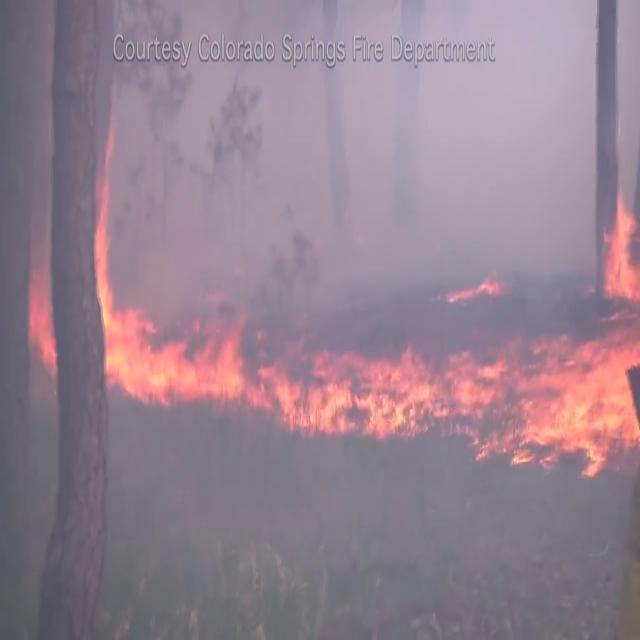Fire: (171, 331, 504, 441), (84, 173, 164, 402), (519, 337, 640, 464), (599, 180, 640, 306), (25, 252, 61, 378)
Smoke: (101, 1, 618, 367)
